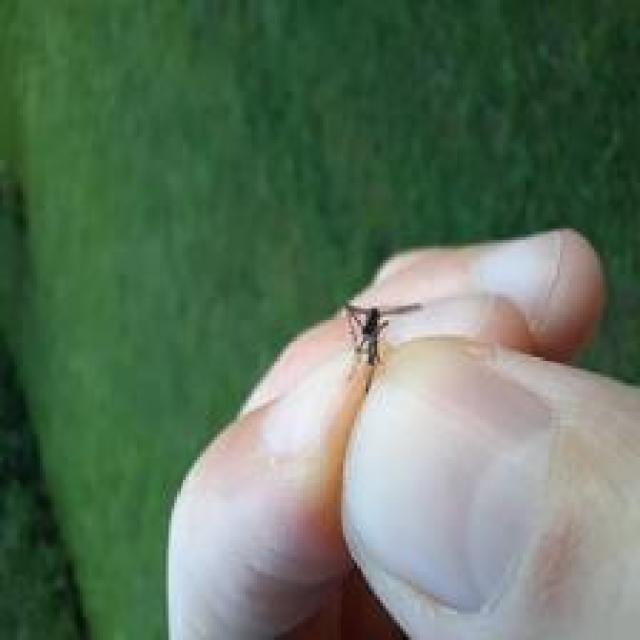Aedes albopictus: (340, 300, 423, 394)
